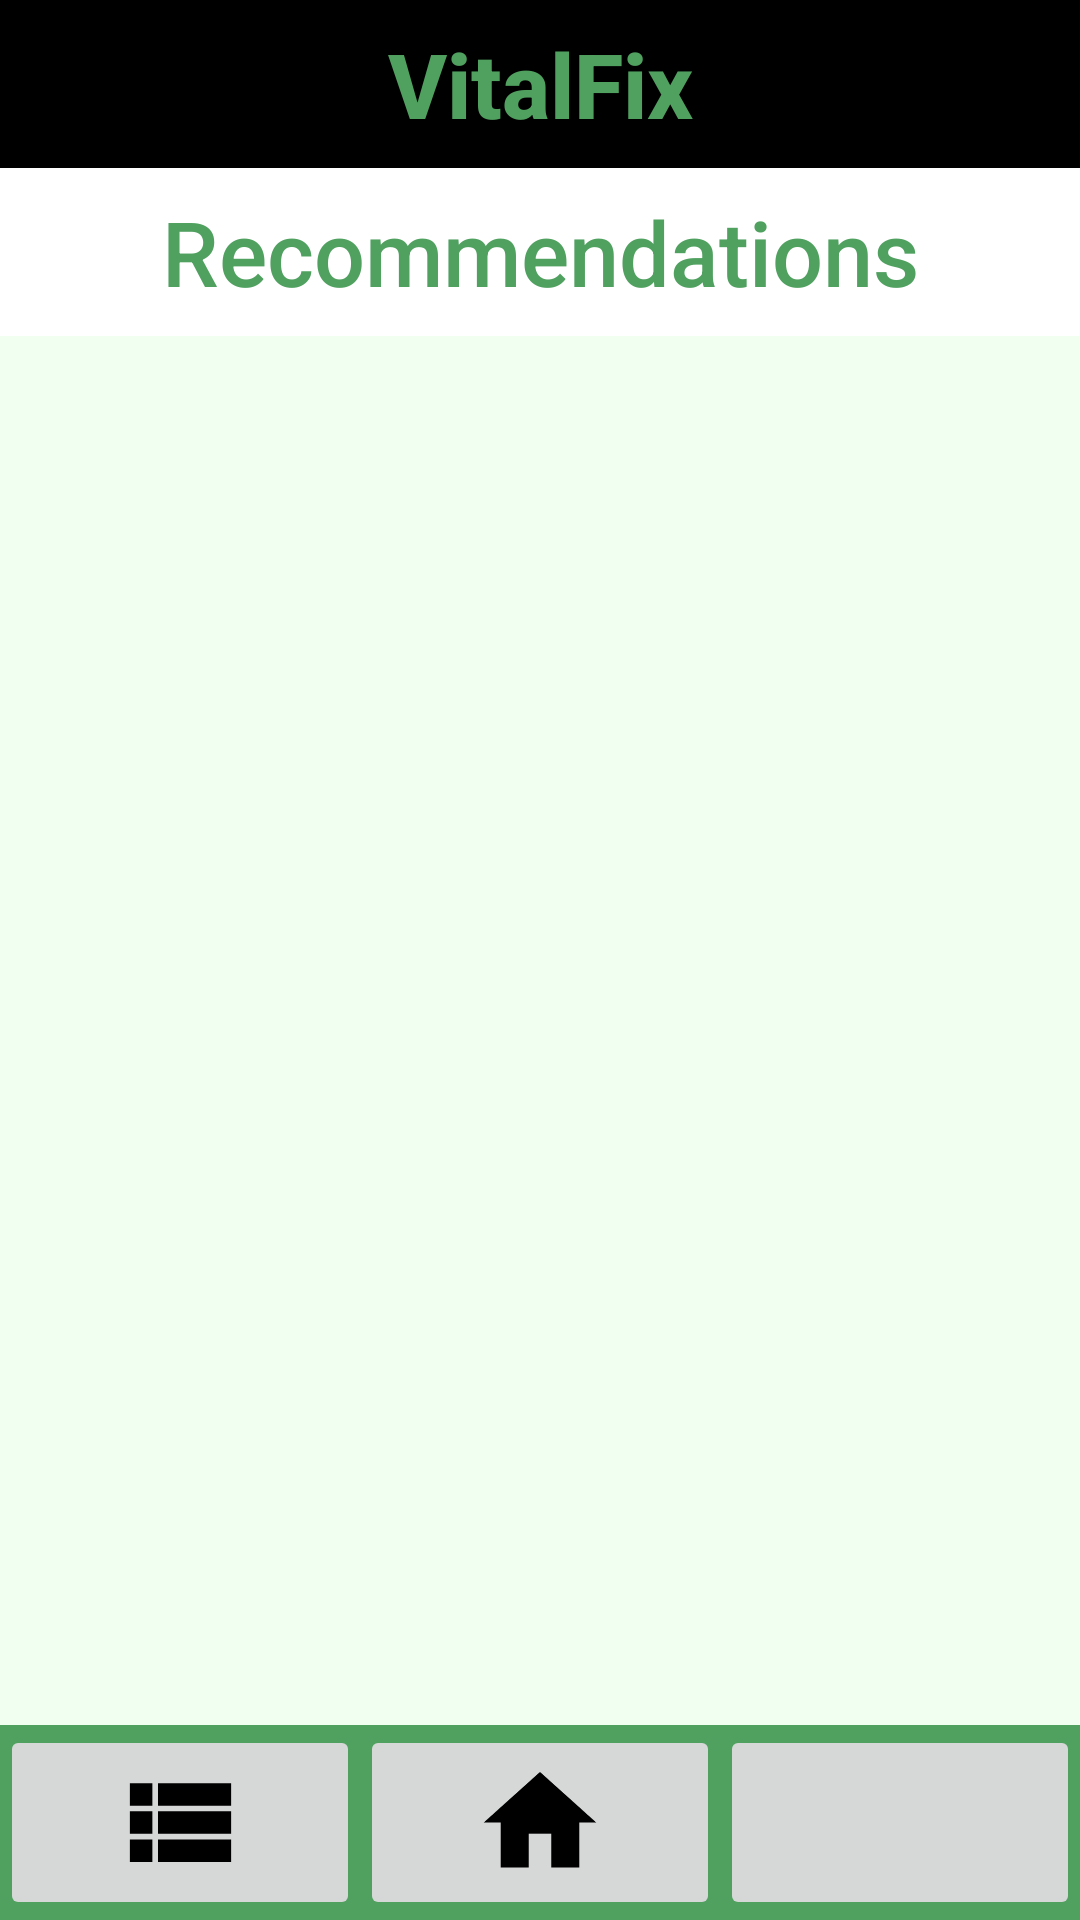

Named icons in this screenshot (1080x1920) and their bounding boxes, [left=x1, top=y1, right=x2, bottom=y2]:
home: [left=372, top=1743, right=708, bottom=1902]
view list: [left=12, top=1743, right=348, bottom=1902]
